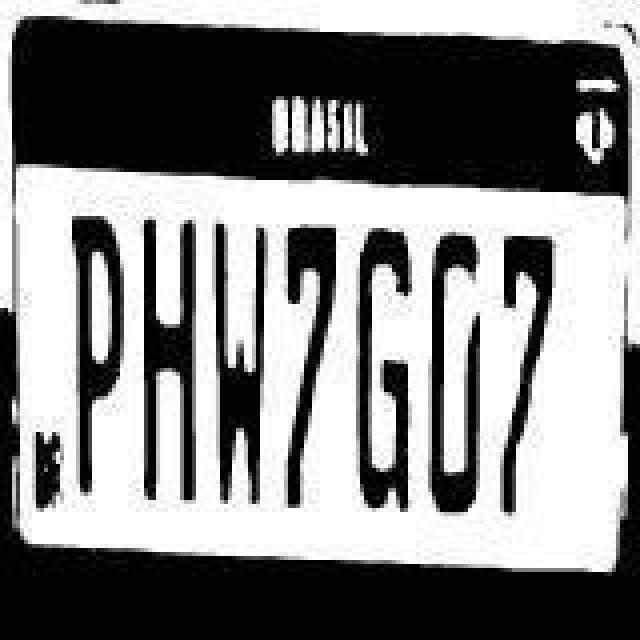7: (498, 226, 574, 526), (282, 218, 350, 518)
D: (422, 216, 498, 520)
G: (344, 214, 424, 522)
H: (136, 214, 200, 522)
P: (64, 214, 136, 514)
W: (204, 218, 276, 518)
